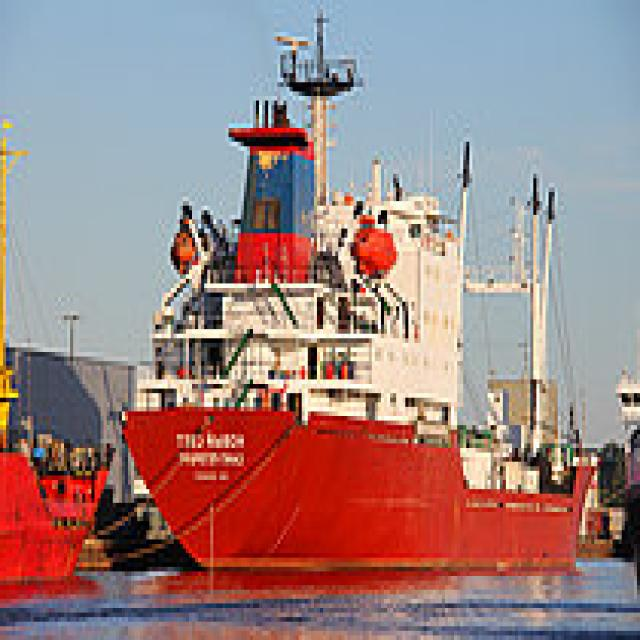Cargo: (119, 0, 607, 571)
